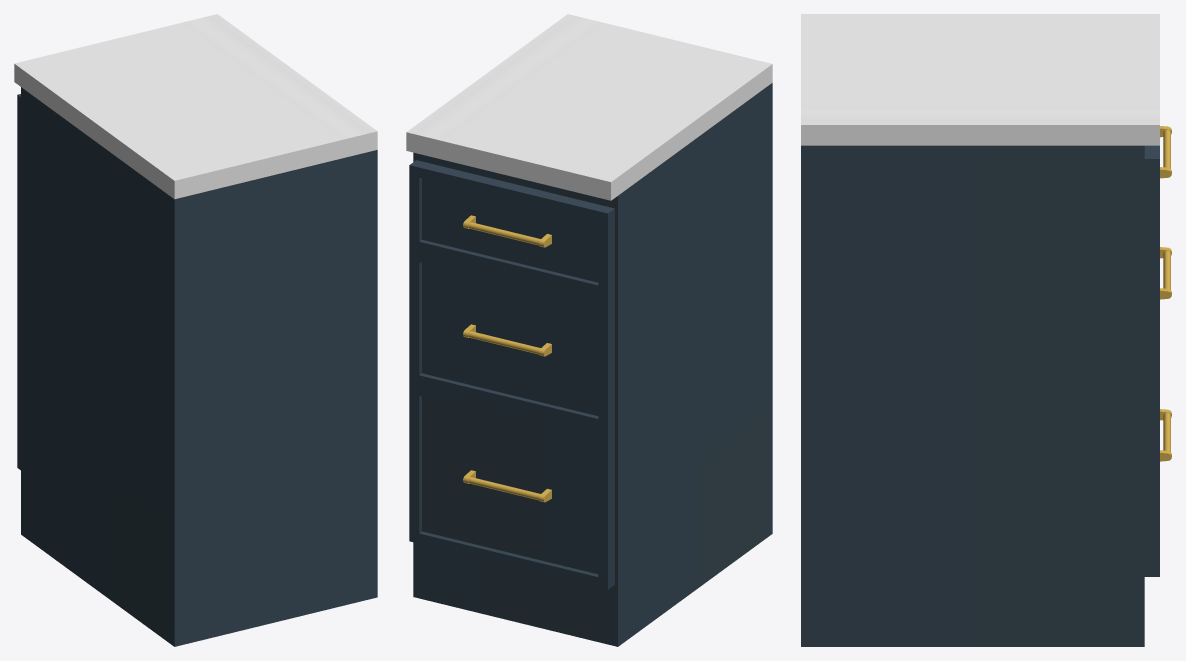
The model's file is CabinetA03.glb.
3 views of the same model, side by side, from view 1: azimuth 30°, elevation 25°; view 2: azimuth 150°, elevation 25°; view 3: azimuth 270°, elevation 25° (orthographic). The views are drawn at different scales.
Visible parts, largest first — view 1: CabinetA03_model, CabinetA03Drawer03, CabinetA03Drawer02; view 2: CabinetA03_model, CabinetA03Drawer03, CabinetA03Drawer02, CabinetA03Drawer01; view 3: CabinetA03_model, CabinetA03Drawer03, CabinetA03Drawer02, CabinetA03Drawer01.
Part boxes in pixels (<box>): CabinetA03_model: <box>14,14,377,646</box>; CabinetA03Drawer03: <box>17,311,20,470</box>; CabinetA03Drawer02: <box>17,178,20,313</box>; CabinetA03_model: <box>406,14,772,646</box>; CabinetA03Drawer03: <box>409,383,614,589</box>; CabinetA03Drawer02: <box>409,249,614,431</box>; CabinetA03Drawer01: <box>409,160,614,297</box>; CabinetA03_model: <box>801,14,1159,646</box>; CabinetA03Drawer03: <box>1144,401,1171,576</box>; CabinetA03Drawer02: <box>1144,247,1171,401</box>; CabinetA03Drawer01: <box>1144,126,1171,252</box>.
Size of the model in its own units: 0.9201 by 2.02 by 1.3.
1 material, 1 textured.
